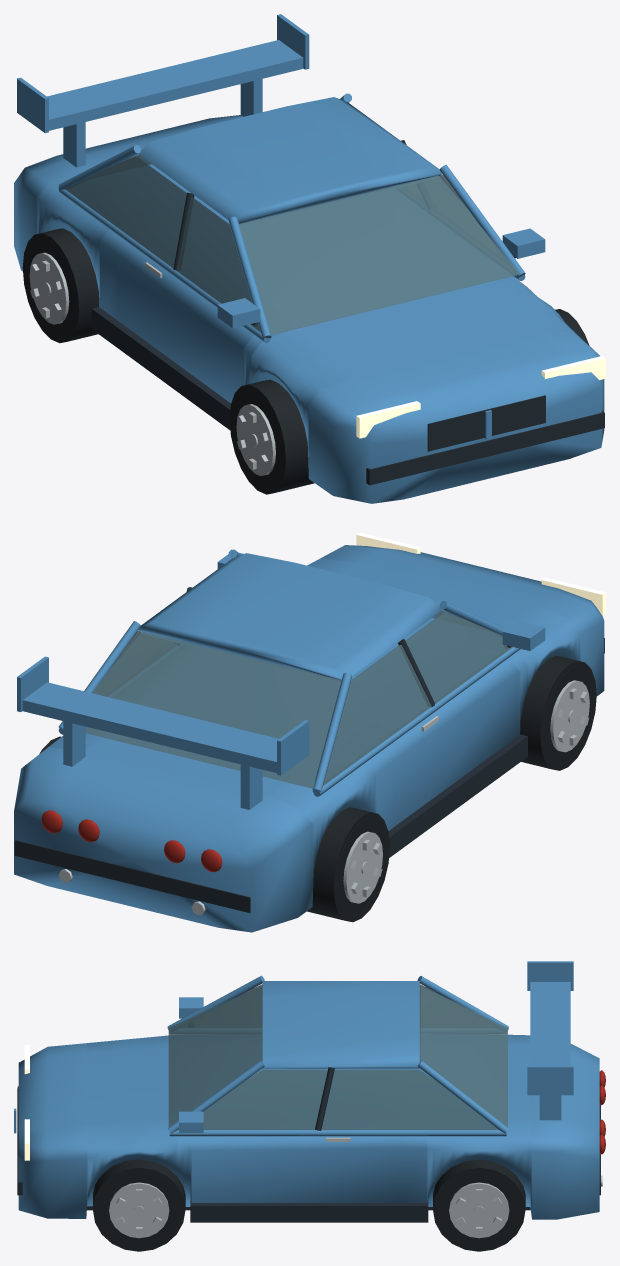
Rendered from hakone.glb.
The picture shows the model from 3 angles, top to bottom: view 1: azimuth 30°, elevation 25°; view 2: azimuth 150°, elevation 25°; view 3: azimuth 270°, elevation 25°; orthographic projection. The views are drawn at different scales.
Visible parts, largest first — view 1: exterior-paint, windows, black-trim, tire-front-left, tire-rear-left, rim-front-left, rim-rear-left, headlights; view 2: exterior-paint, windows, black-trim, tire-rear-left, tire-front-left, rim-rear-left, rim-front-left, taillights, headlights; view 3: exterior-paint, windows, black-trim, tire-front-right, tire-rear-right, rim-rear-right, rim-front-right, taillights, headlights.
Part boxes in pixels (box(x1,y1,x2,y2)): exterior-paint: box(14, 14, 604, 503); windows: box(65, 154, 519, 334); black-trim: box(91, 140, 604, 485); tire-front-left: box(229, 379, 314, 494); tire-rear-left: box(22, 228, 99, 343); rim-front-left: box(236, 404, 275, 475); rim-rear-left: box(29, 252, 69, 324); headlights: box(356, 355, 605, 438); exterior-paint: box(14, 545, 604, 932); windows: box(85, 611, 512, 788); black-trim: box(14, 587, 604, 912); tire-rear-left: box(307, 807, 389, 922); tire-front-left: box(520, 655, 596, 770); rim-rear-left: box(343, 831, 382, 903); rim-front-left: box(550, 680, 589, 752); taillights: box(41, 810, 222, 872); headlights: box(356, 532, 605, 615); exterior-paint: box(14, 961, 599, 1219); windows: box(168, 984, 507, 1129); black-trim: box(17, 1067, 600, 1222); tire-front-right: box(93, 1159, 185, 1251); tire-rear-right: box(433, 1159, 525, 1251); rim-rear-right: box(449, 1182, 509, 1238); rim-front-right: box(109, 1182, 169, 1238); taillights: box(599, 1070, 605, 1154); headlights: box(24, 1045, 29, 1160).
Size of the model in its own units: 1.99 by 1.25 by 3.83.
